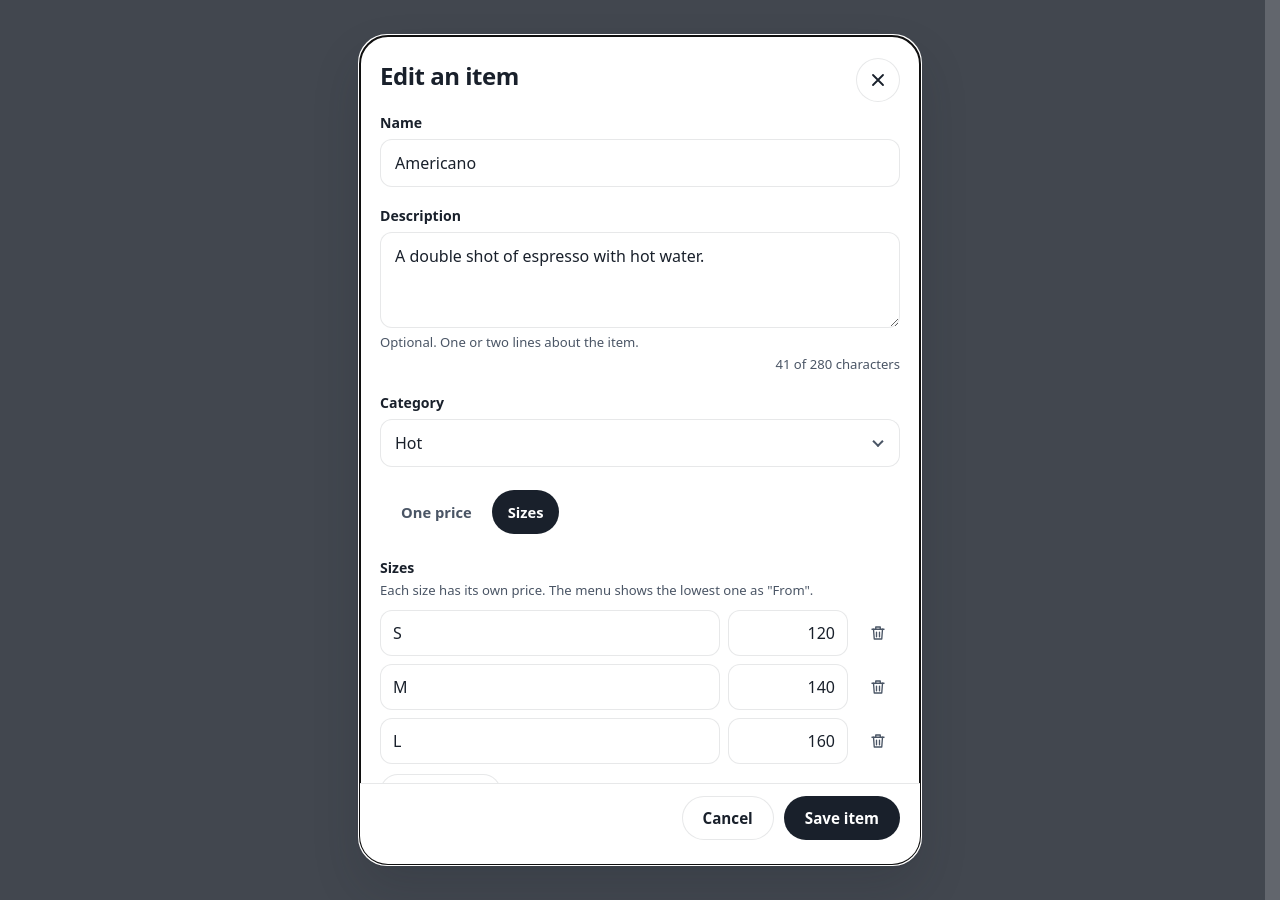
it: ProductEditor: what it refuses › refuses two sizes with the same name, whatever the case
Replace the text in the field named "Name of size 2" with "s" at x=550, y=687, box [380,664,720,710]
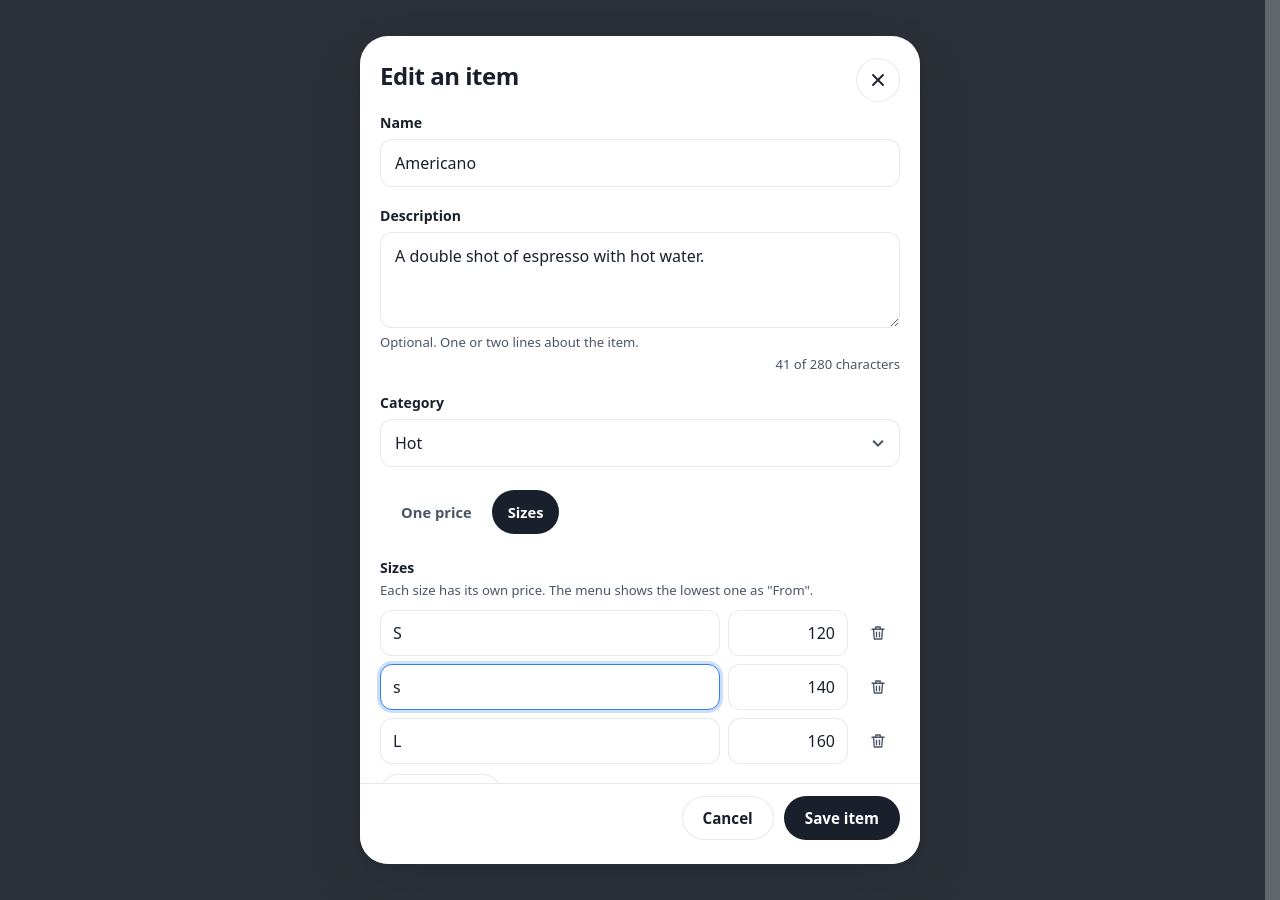
Click the button "Save item" at x=842, y=818, box [784,796,900,840]
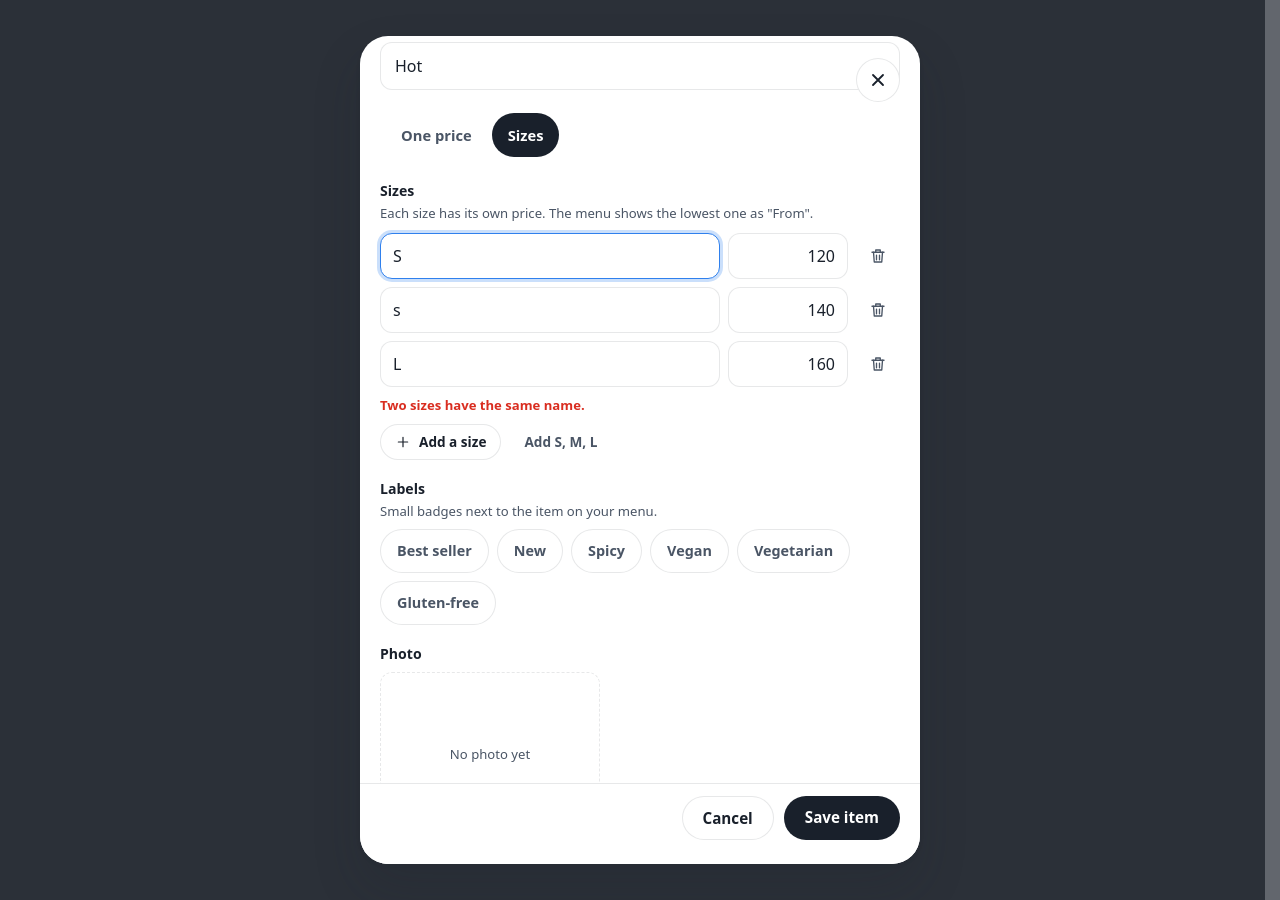
Expected: the text "Two sizes have the same name." is shown, [380,396,585,414]
